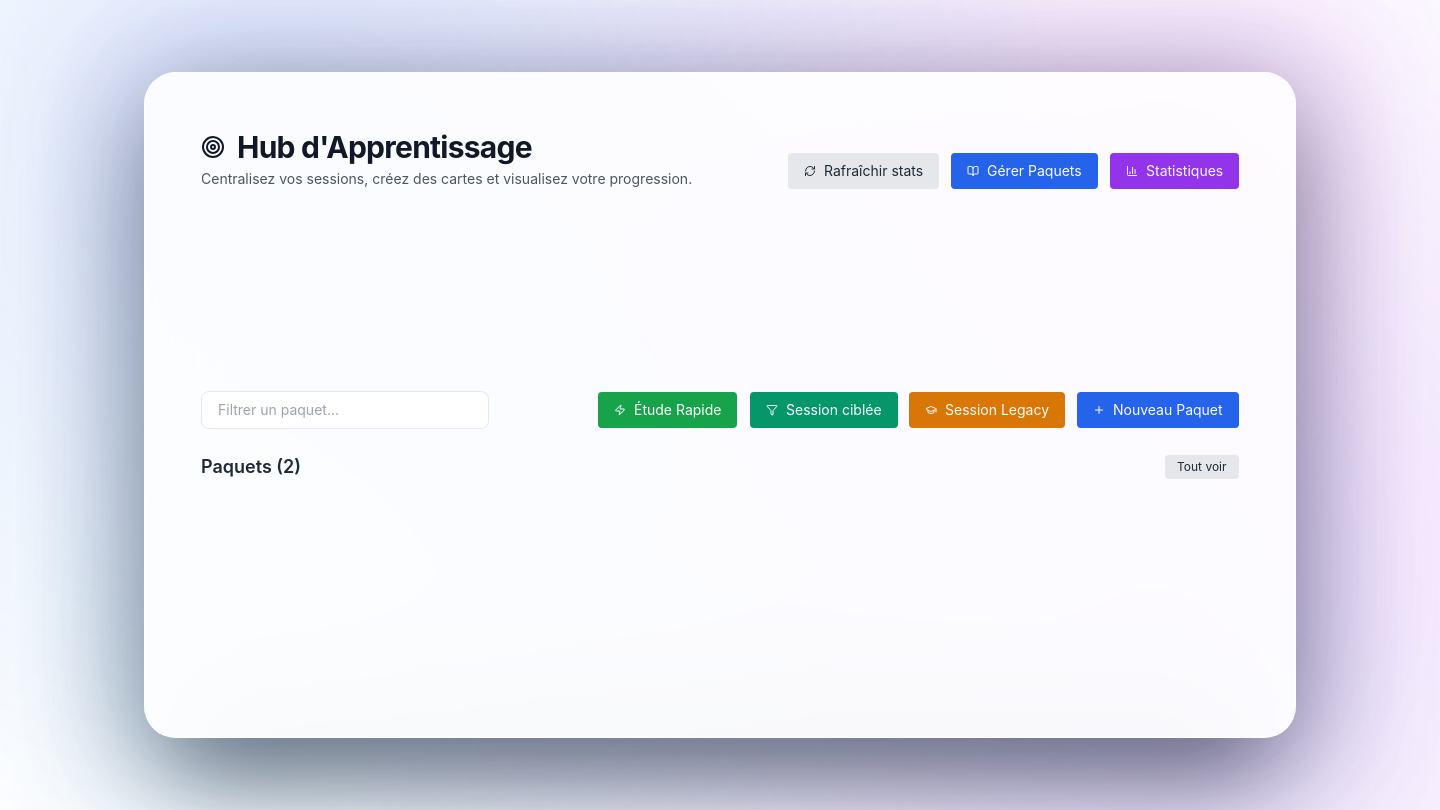
StudyHubPage › filtre les decks (compteur)
Expected: the heading "Paquets (2)" is shown, [201,452,301,480]
Note: Le compteur reflète 2 decks
Type "math" into the field with placeholder "Filtrer un paquet...". click: (345, 409)
box: [201,390,489,428]
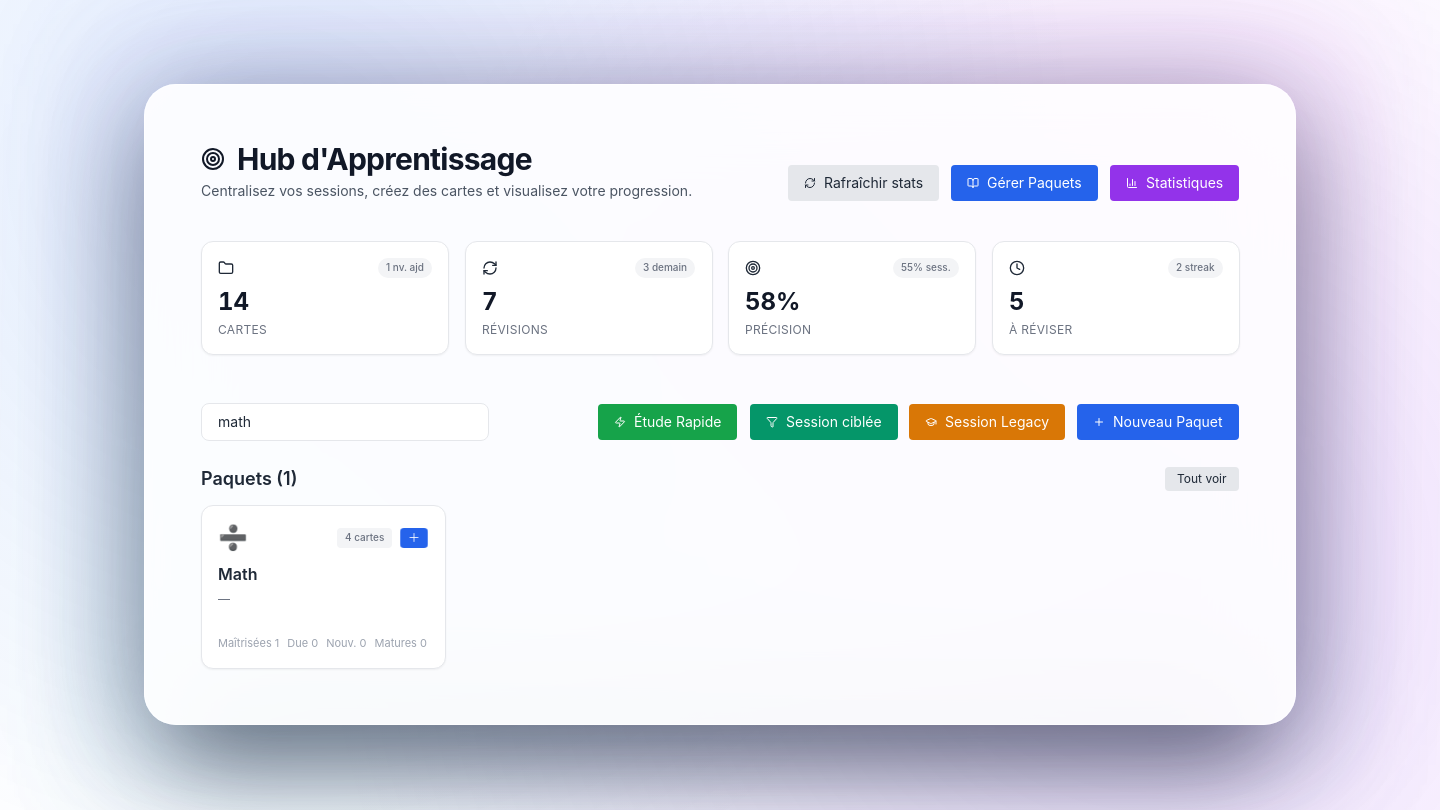
Now the heading "Paquets (1)" is shown, box [201,465,297,493]
